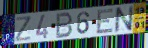4: (35, 14, 49, 41)
6: (77, 11, 91, 35)
B: (55, 11, 74, 39)
E: (95, 7, 115, 35)
N: (114, 5, 135, 35)
Z: (15, 15, 32, 43)
